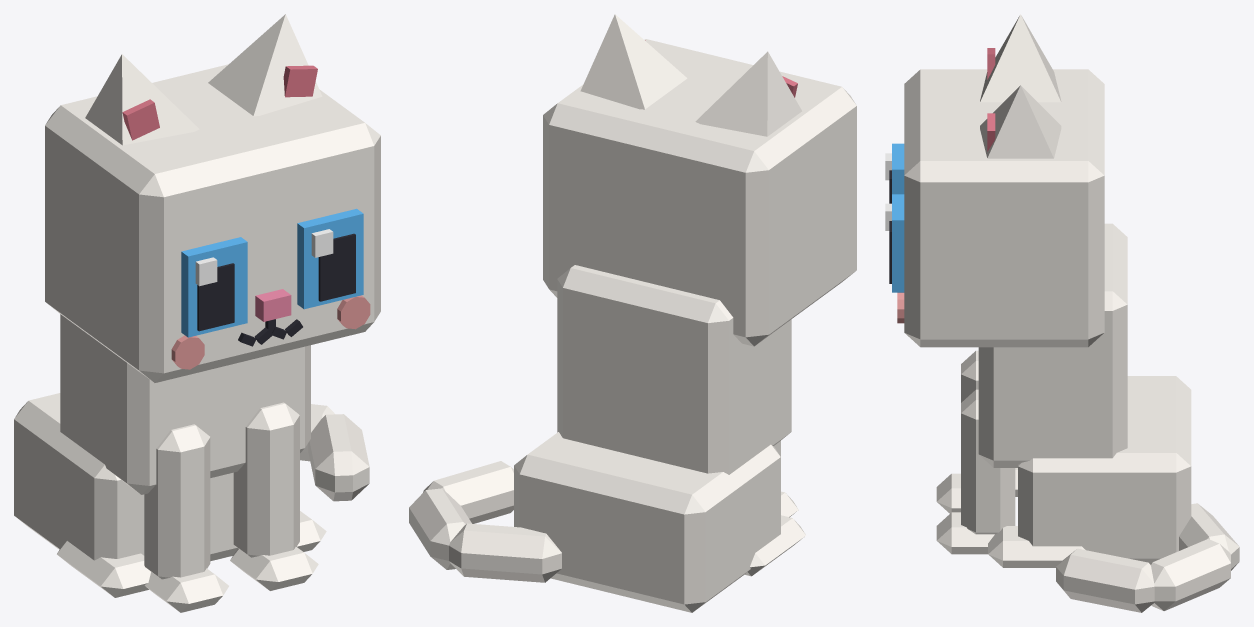
The model's file is CleanACat_Cat_Cotton_Sit.fbx.
3 views of the same model, side by side, from view 1: azimuth 30°, elevation 25°; view 2: azimuth 150°, elevation 25°; view 3: azimuth 270°, elevation 25° (orthographic). The views are drawn at different scales.
Parts seen in each view (by area): view 1: CleanACat_Cat_Cotton_Sit_Head, CleanACat_Cat_Cotton_Sit_Body, CleanACat_Cat_Cotton_Sit_LegF1, CleanACat_Cat_Cotton_Sit_LegF2, CleanACat_Cat_Cotton_Sit_EarL, CleanACat_Cat_Cotton_Sit_Eye2, CleanACat_Cat_Cotton_Sit_Eye1, CleanACat_Cat_Cotton_Sit_EarR, CleanACat_Cat_Cotton_Sit_Tail; view 2: CleanACat_Cat_Cotton_Sit_Body, CleanACat_Cat_Cotton_Sit_Head, CleanACat_Cat_Cotton_Sit_Tail, CleanACat_Cat_Cotton_Sit_EarL, CleanACat_Cat_Cotton_Sit_EarR; view 3: CleanACat_Cat_Cotton_Sit_Head, CleanACat_Cat_Cotton_Sit_Body, CleanACat_Cat_Cotton_Sit_Tail, CleanACat_Cat_Cotton_Sit_LegF1, CleanACat_Cat_Cotton_Sit_EarL, CleanACat_Cat_Cotton_Sit_EarR, CleanACat_Cat_Cotton_Sit_Eye1, CleanACat_Cat_Cotton_Sit_LegF2, CleanACat_Cat_Cotton_Sit_Eye2.
Boxes of the visible parts, left/top/right/bottom form: CleanACat_Cat_Cotton_Sit_Head: left=45, top=64, right=380, bottom=382; CleanACat_Cat_Cotton_Sit_Body: left=14, top=314, right=326, bottom=597; CleanACat_Cat_Cotton_Sit_LegF1: left=230, top=402, right=318, bottom=590; CleanACat_Cat_Cotton_Sit_LegF2: left=144, top=424, right=228, bottom=612; CleanACat_Cat_Cotton_Sit_EarL: left=208, top=14, right=322, bottom=116; CleanACat_Cat_Cotton_Sit_Eye2: left=181, top=237, right=247, bottom=337; CleanACat_Cat_Cotton_Sit_Eye1: left=297, top=208, right=363, bottom=309; CleanACat_Cat_Cotton_Sit_EarR: left=85, top=54, right=199, bottom=145; CleanACat_Cat_Cotton_Sit_Tail: left=300, top=404, right=369, bottom=501; CleanACat_Cat_Cotton_Sit_Body: left=514, top=265, right=805, bottom=612; CleanACat_Cat_Cotton_Sit_Head: left=543, top=39, right=856, bottom=346; CleanACat_Cat_Cotton_Sit_Tail: left=409, top=461, right=561, bottom=582; CleanACat_Cat_Cotton_Sit_EarL: left=580, top=14, right=687, bottom=109; CleanACat_Cat_Cotton_Sit_EarR: left=695, top=51, right=801, bottom=136; CleanACat_Cat_Cotton_Sit_Head: left=897, top=69, right=1104, bottom=347; CleanACat_Cat_Cotton_Sit_Body: left=978, top=223, right=1191, bottom=567; CleanACat_Cat_Cotton_Sit_Tail: left=1056, top=503, right=1239, bottom=612; CleanACat_Cat_Cotton_Sit_LegF1: left=936, top=389, right=1015, bottom=554; CleanACat_Cat_Cotton_Sit_EarL: left=980, top=85, right=1061, bottom=158; CleanACat_Cat_Cotton_Sit_EarR: left=980, top=14, right=1061, bottom=102; CleanACat_Cat_Cotton_Sit_Eye1: left=885, top=194, right=904, bottom=292; CleanACat_Cat_Cotton_Sit_LegF2: left=936, top=350, right=978, bottom=513; CleanACat_Cat_Cotton_Sit_Eye2: left=885, top=143, right=904, bottom=203.
Bounding box in the file's own units: 1.24 × 1.85 × 1.24.
1 material, 1 textured.
